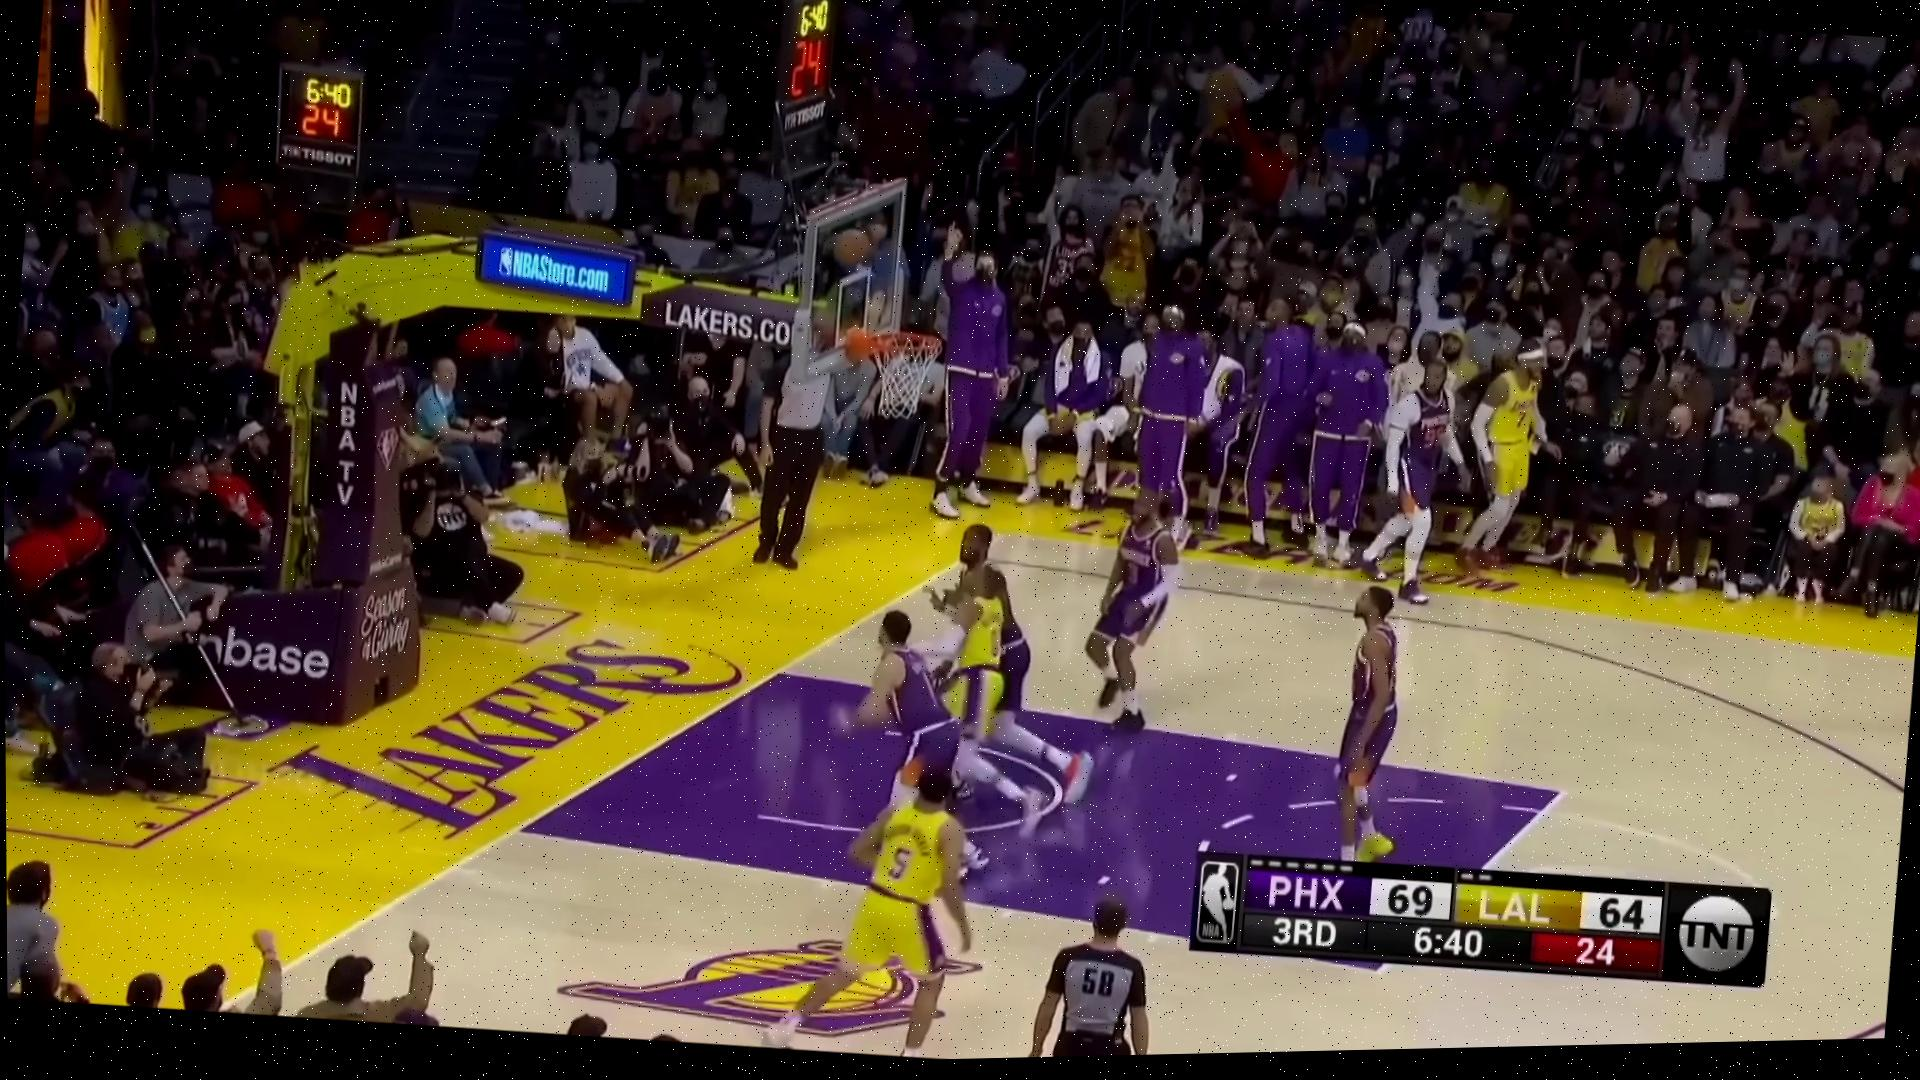foul: (789, 501, 1146, 874)
